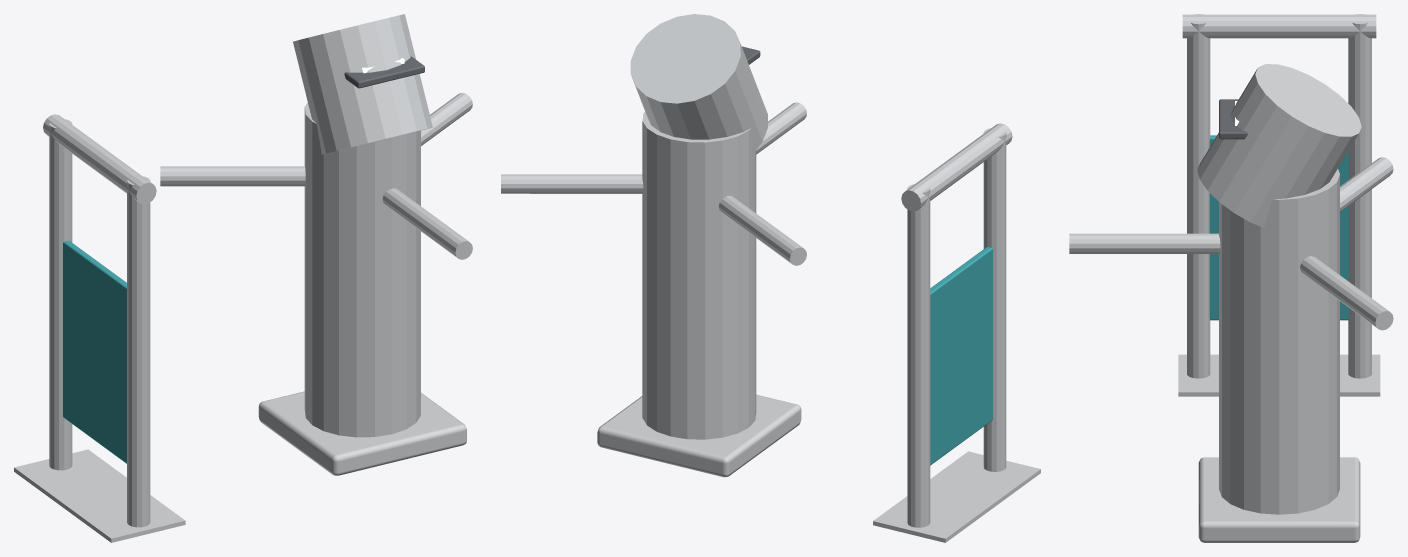
File: public-aquarium-and-marine-centre-turnstile-gate-83e9070d__34163.glb
3 renders of one model, left to right at view 1: azimuth 30°, elevation 25°; view 2: azimuth 150°, elevation 25°; view 3: azimuth 270°, elevation 25°, orthographic. The views are drawn at different scales.
Parts seen in each view (by area): view 1: turnstile-gate, turnstile-arm; view 2: turnstile-gate, turnstile-arm; view 3: turnstile-gate, turnstile-arm.
Boxes of the visible parts, box(x1,y1,x2,y2) form: turnstile-gate: box(14, 14, 466, 542); turnstile-arm: box(160, 93, 472, 259); turnstile-gate: box(597, 14, 1040, 542); turnstile-arm: box(501, 102, 806, 265); turnstile-gate: box(1178, 14, 1380, 542); turnstile-arm: box(1069, 157, 1393, 330).
Bounding box in the file's own units: 1.35 × 1.19 × 0.8026.
